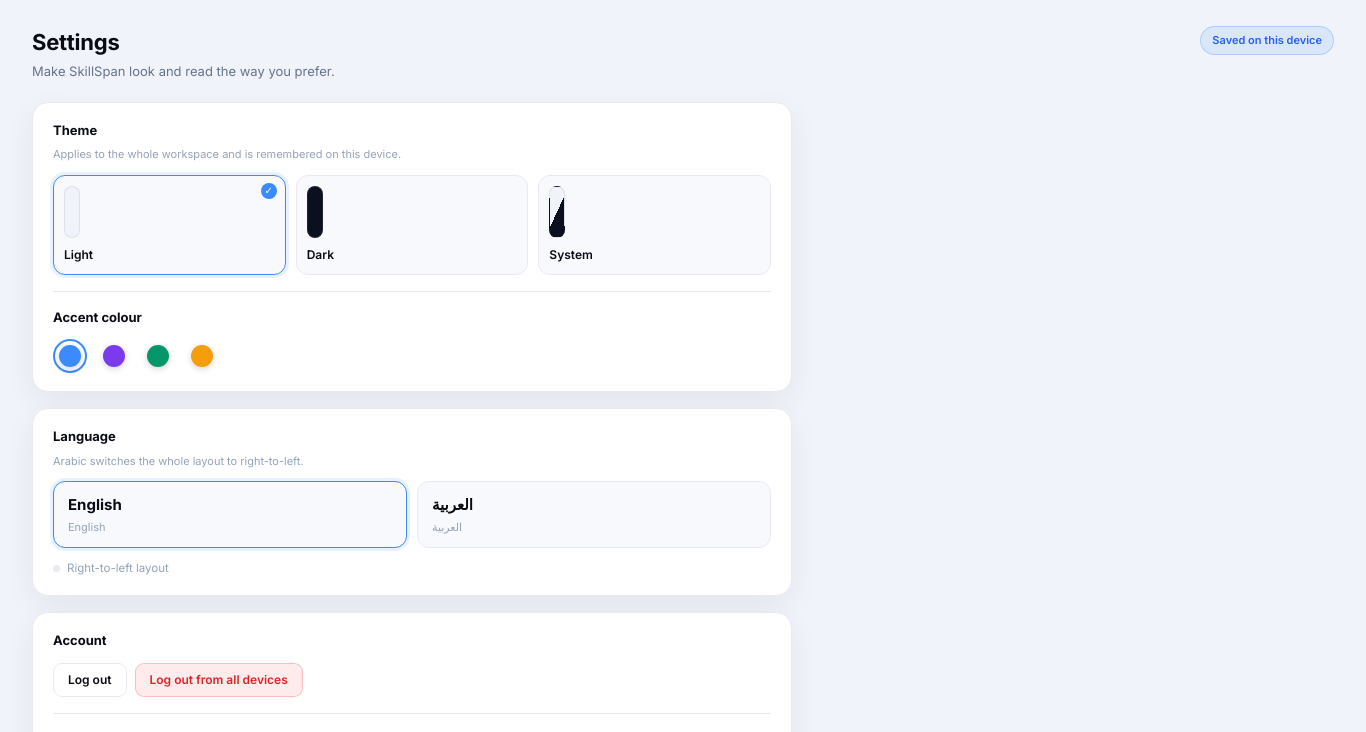
settings page › switches language and flips the layout to RTL
Click the button "العربية العربية": (452, 504) [417,481,771,548]
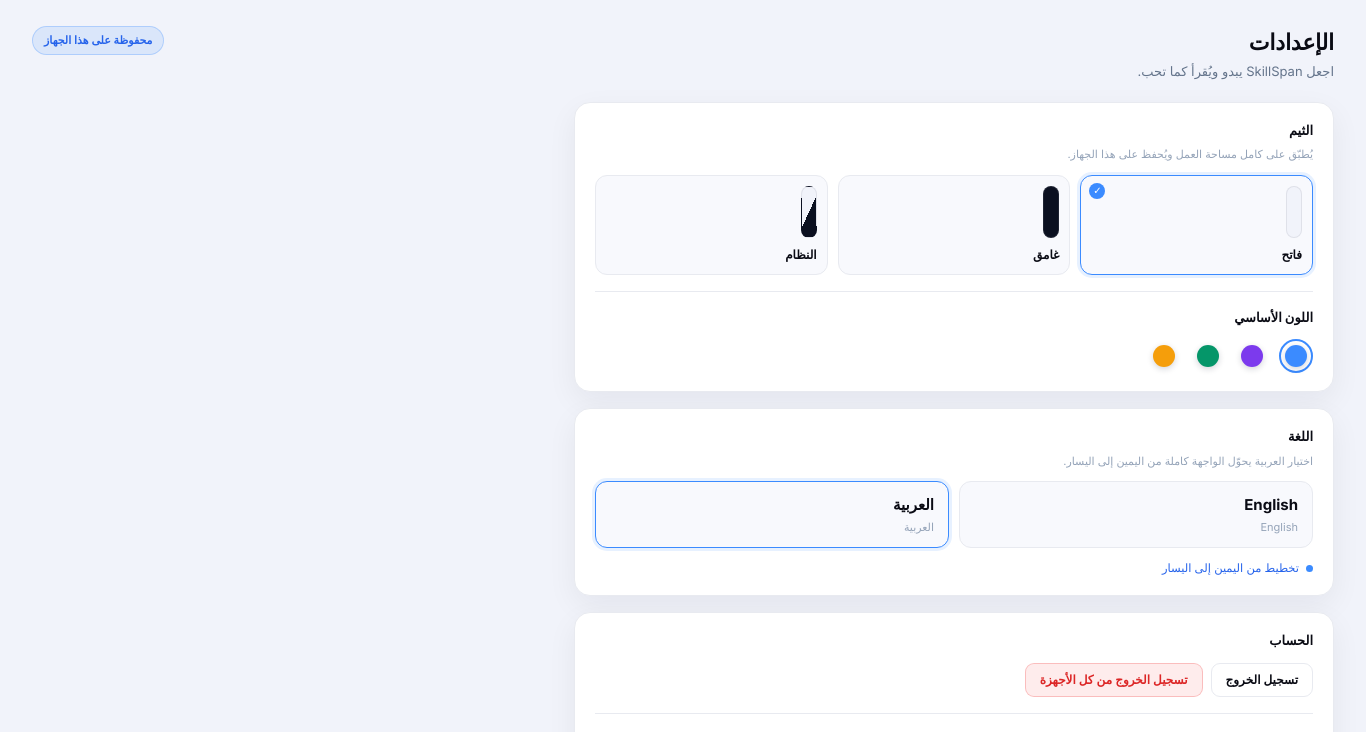
Check: the heading "الإعدادات" is shown, box [1249,29,1334,55]
